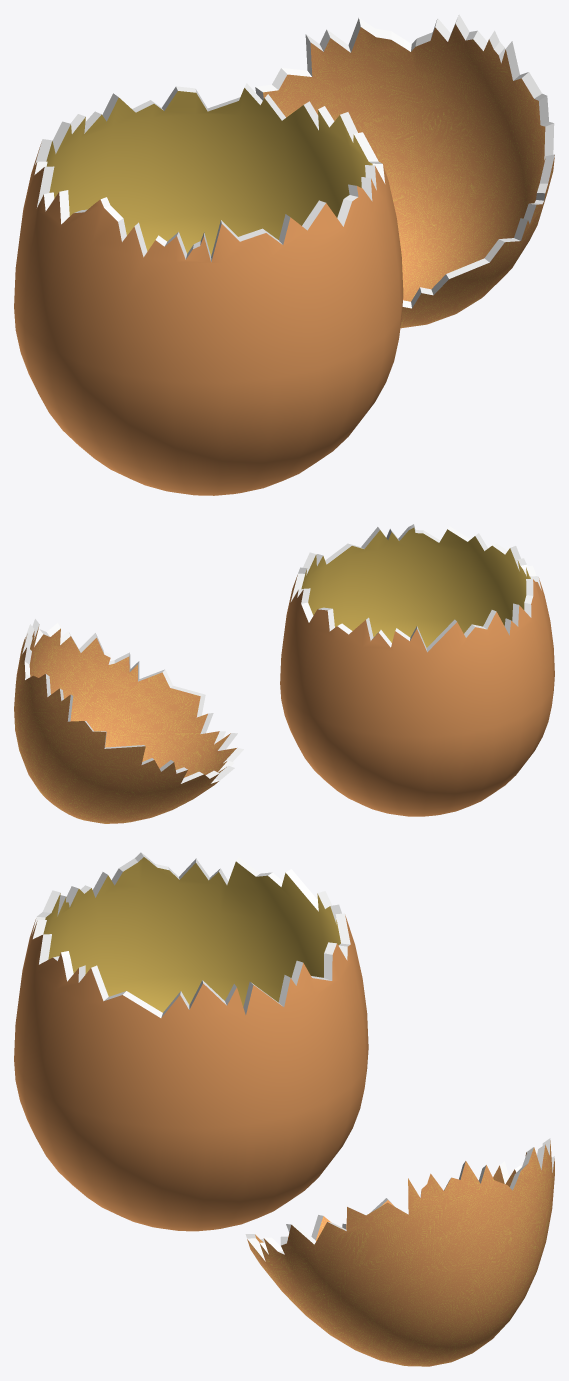
3 renders of one model, top to bottom at view 1: azimuth 30°, elevation 25°; view 2: azimuth 150°, elevation 25°; view 3: azimuth 270°, elevation 25°, orthographic. The views are drawn at different scales.
Visible parts, largest first — view 1: group_0 (×6); view 2: group_0 (×6); view 3: group_0 (×5).
Boxes of the visible parts, bbox=[...] form: group_0 (×6): bbox=[14, 14, 554, 495]; group_0 (×6): bbox=[14, 524, 554, 823]; group_0 (×5): bbox=[14, 852, 554, 1366].
Bounding box in the file's own units: 236 × 201 × 125.
